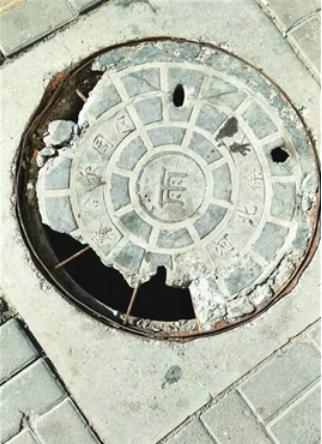broke: (13, 29, 318, 335)
